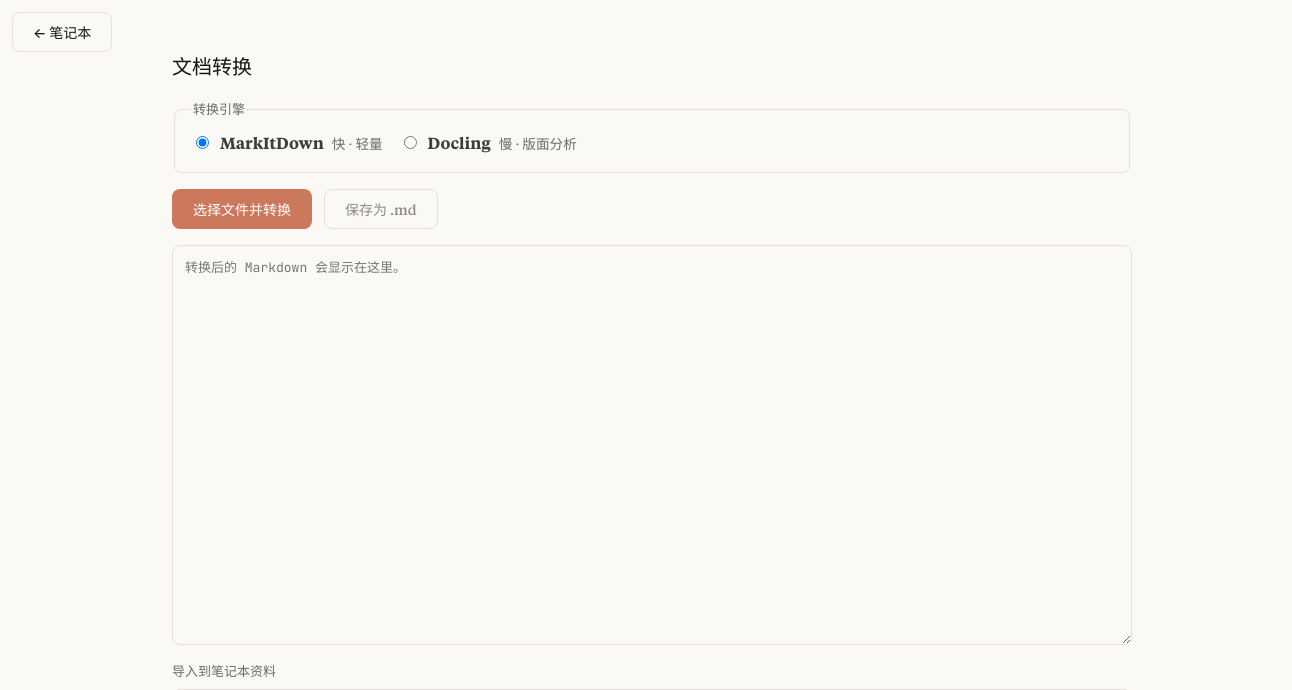
it: MarkitdownPanel › converts a selected file and previews editable Markdown
The image size is (1292, 690).
Click the button "选择文件并转换" at (242, 209), box [172,189,312,229]
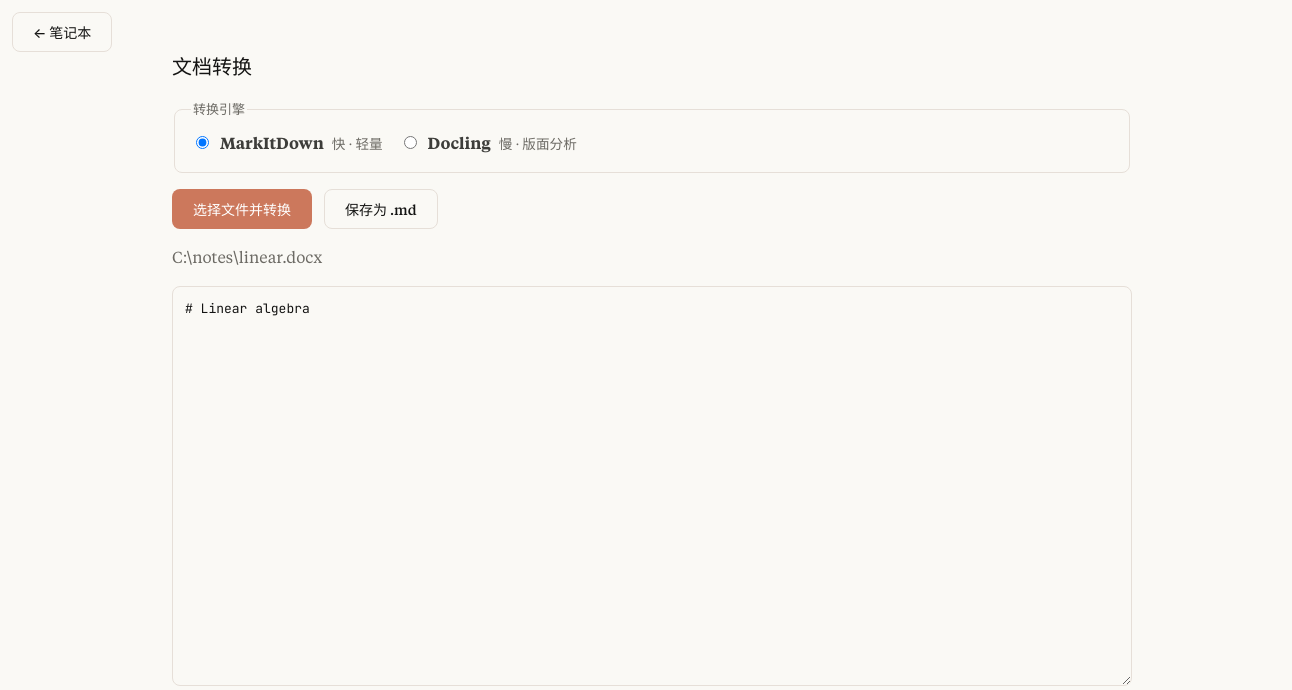
Result: the text box holds "# Linear algebra" at [172,286,1132,686]
Result: the text "C:\\notes\\linear.docx" is shown at [172,246,322,267]
